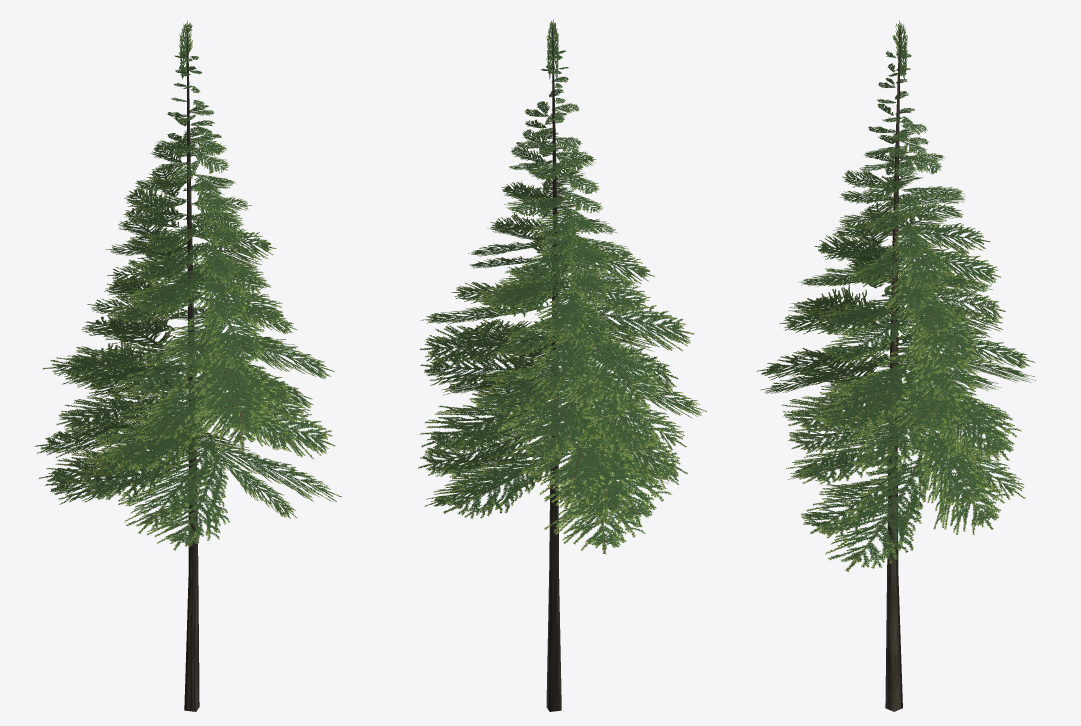
Rendered from mid.glb.
3 views of the same model, side by side, from view 1: azimuth 30°, elevation 25°; view 2: azimuth 150°, elevation 25°; view 3: azimuth 270°, elevation 25° (orthographic).
Visible parts, largest first — view 1: spruce_04; view 2: spruce_04; view 3: spruce_04.
Part boxes in pixels (<box>): spruce_04: <box>34,20,341,711</box>; spruce_04: <box>418,19,706,711</box>; spruce_04: <box>756,20,1035,711</box>.
Bounding box in the file's own units: 9.92 × 21.75 × 9.3.
2 materials, 2 textured.
